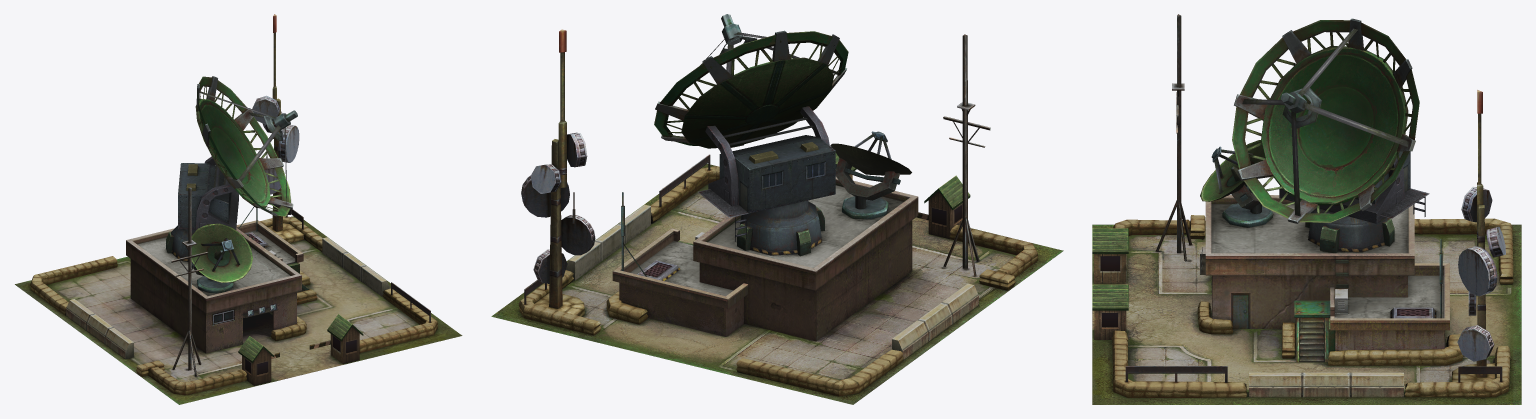
The model's file is Dhz_RadarStation_01.FBX.
3 renders of one model, left to right at view 1: azimuth 30°, elevation 25°; view 2: azimuth 150°, elevation 25°; view 3: azimuth 270°, elevation 25°, orthographic. The views are drawn at different scales.
Visible parts, largest first — view 1: Dhz_radarstation; view 2: Dhz_radarstation; view 3: Dhz_radarstation.
Part boxes in pixels (left/top/right/bottom): Dhz_radarstation: left=15, top=14, right=462, bottom=404; Dhz_radarstation: left=491, top=14, right=1063, bottom=404; Dhz_radarstation: left=1092, top=14, right=1521, bottom=404.
Size of the model in its own units: 123 by 91.63 by 124.
